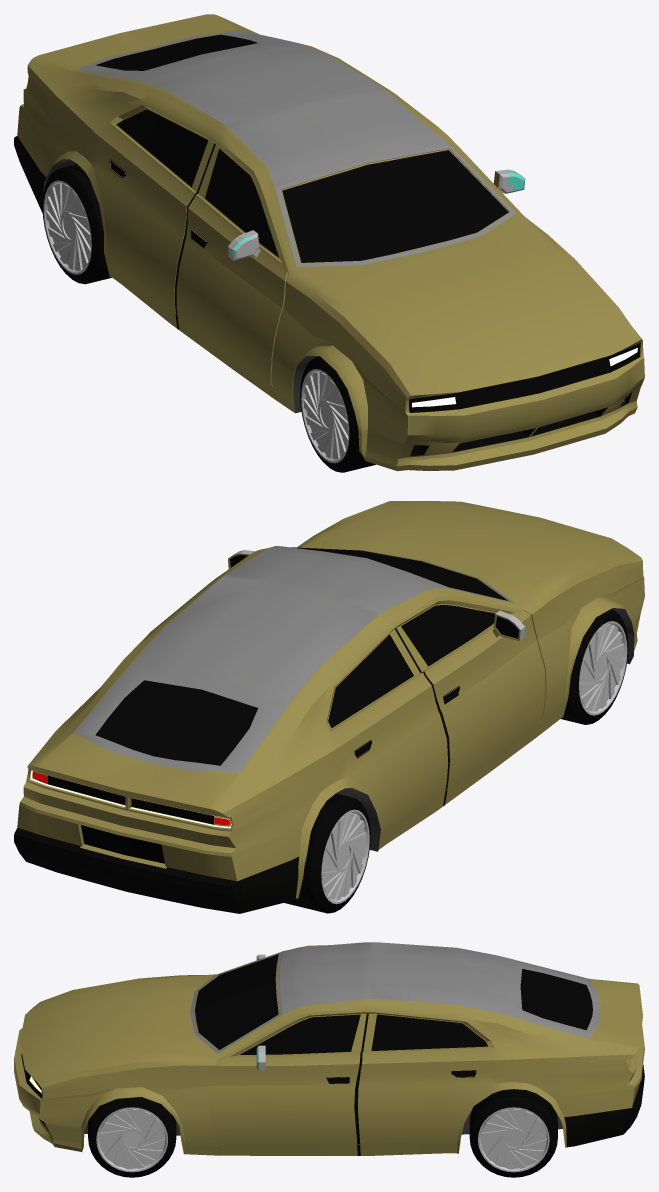
Rendered from MUSCLE CAR 1.fbx.
3 renders of one model, top to bottom at view 1: azimuth 30°, elevation 25°; view 2: azimuth 150°, elevation 25°; view 3: azimuth 270°, elevation 25°, orthographic. The views are drawn at different scales.
Parts seen in each view (by area): view 1: car; view 2: car; view 3: car.
Boxes of the visible parts, box(x1,y1,x2,y2) form: car: box(14, 14, 644, 472); car: box(14, 501, 644, 913); car: box(14, 942, 644, 1177).
Size of the model in its own units: 130 by 92.19 by 328.
1 material, 1 textured.
